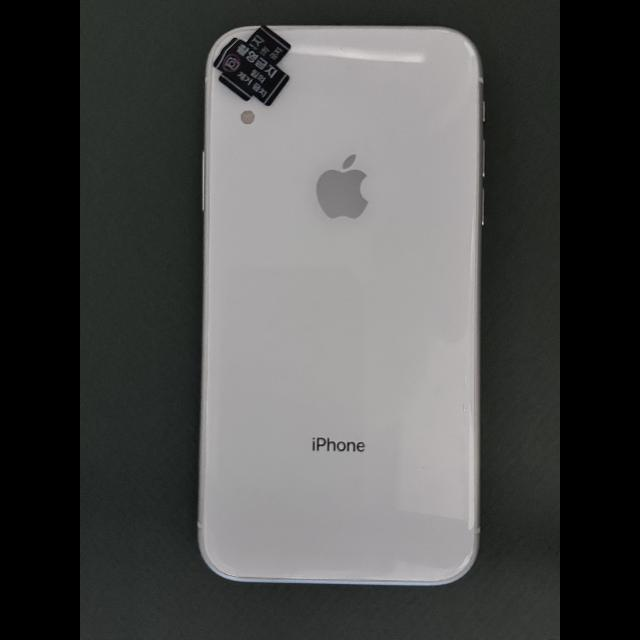phone: (197, 25, 483, 586)
sticker: (212, 37, 290, 107), (247, 25, 291, 65)
